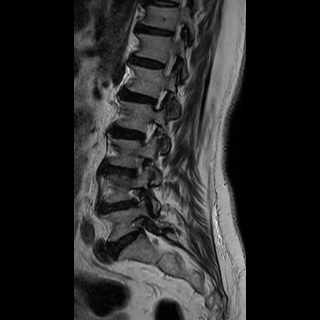LFS0: (135, 117, 161, 148), (148, 85, 172, 115)
